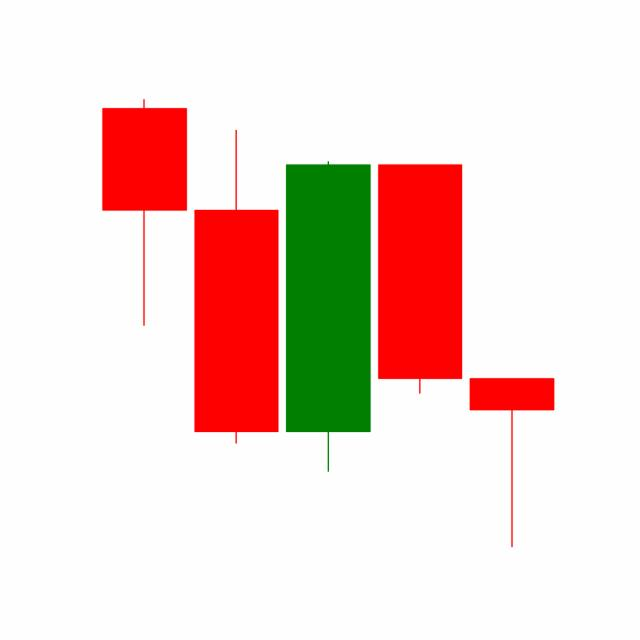Hammer: (464, 376, 558, 550)
